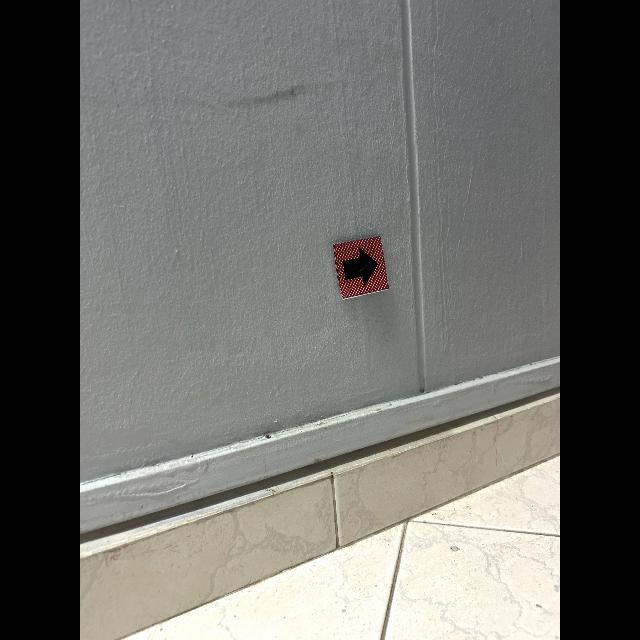RIGHT: (343, 249, 378, 286)
